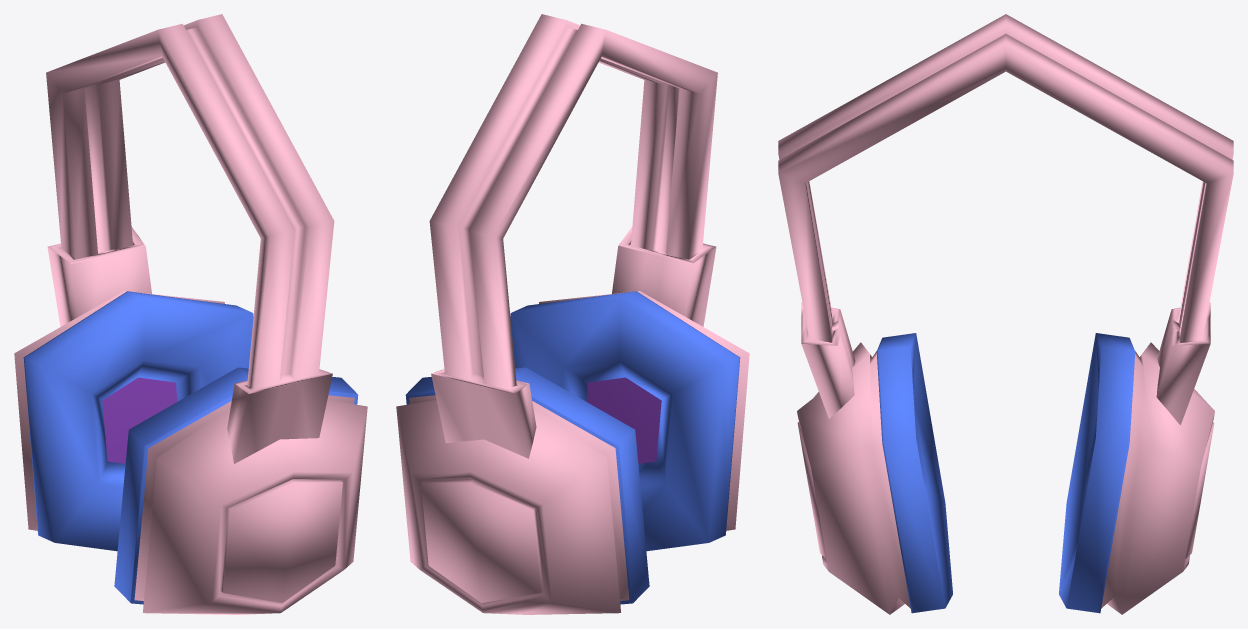
The model's file is colorfull-headphones.glb.
3 views of the same model, side by side, from view 1: azimuth 30°, elevation 25°; view 2: azimuth 150°, elevation 25°; view 3: azimuth 270°, elevation 25° (orthographic).
Visible parts, largest first — view 1: Cube, Cube.001, Cube.002; view 2: Cube, Cube.002, Cube.001; view 3: Cube, Cube.001, Cube.002.
Part boxes in pixels (x1,y1,x2,y2): Cube: [46, 14, 334, 463]; Cube.001: [114, 367, 367, 614]; Cube.002: [14, 291, 253, 551]; Cube: [429, 14, 717, 458]; Cube.002: [396, 367, 649, 614]; Cube.001: [510, 291, 749, 551]; Cube: [778, 14, 1233, 424]; Cube.001: [797, 333, 952, 614]; Cube.002: [1059, 333, 1214, 614].
Size of the model in its own units: 1.43 by 3.59 by 2.61.
